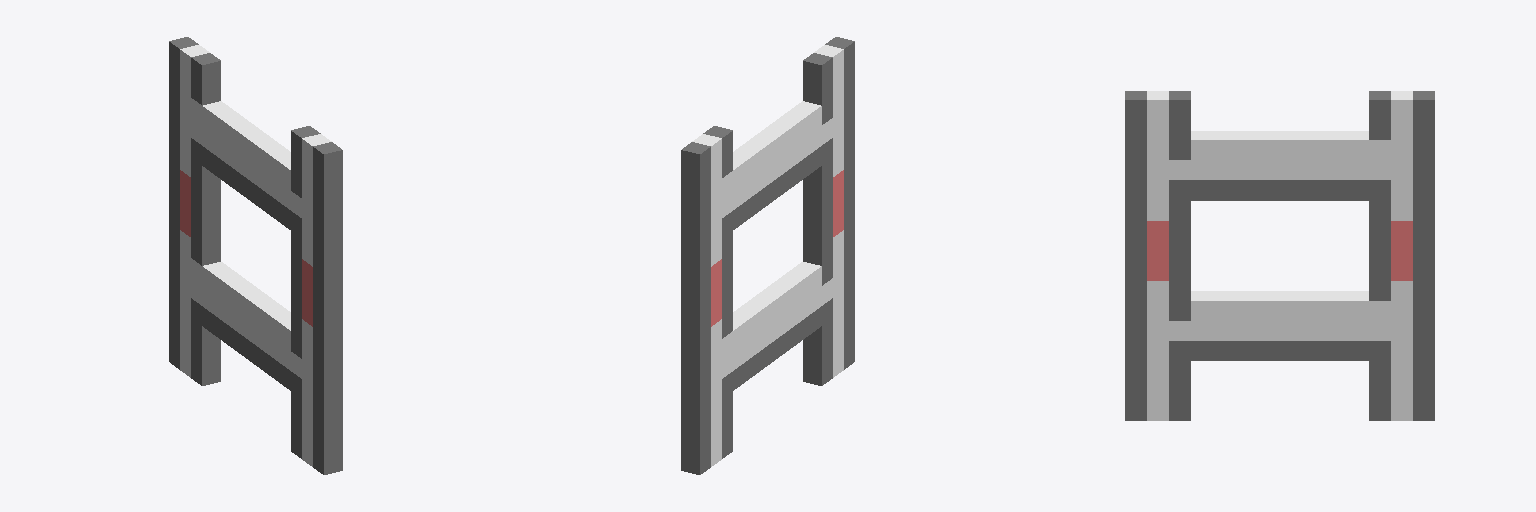
The picture shows the model from 3 angles: view 1: azimuth 30°, elevation 25°; view 2: azimuth 150°, elevation 25°; view 3: azimuth 270°, elevation 25°; orthographic projection.
Visible parts, largest first — view 1: object 1; view 2: object 1; view 3: object 1.
Boxes of the visible parts, x1=… form: object 1: x1=169, y1=37, x2=342, y2=474; object 1: x1=681, y1=37, x2=854, y2=474; object 1: x1=1125, y1=91, x2=1434, y2=420.
Bounding box in the file's own units: 0.1 × 1.6 × 1.4.
Materials: 1 (1 with a texture image).